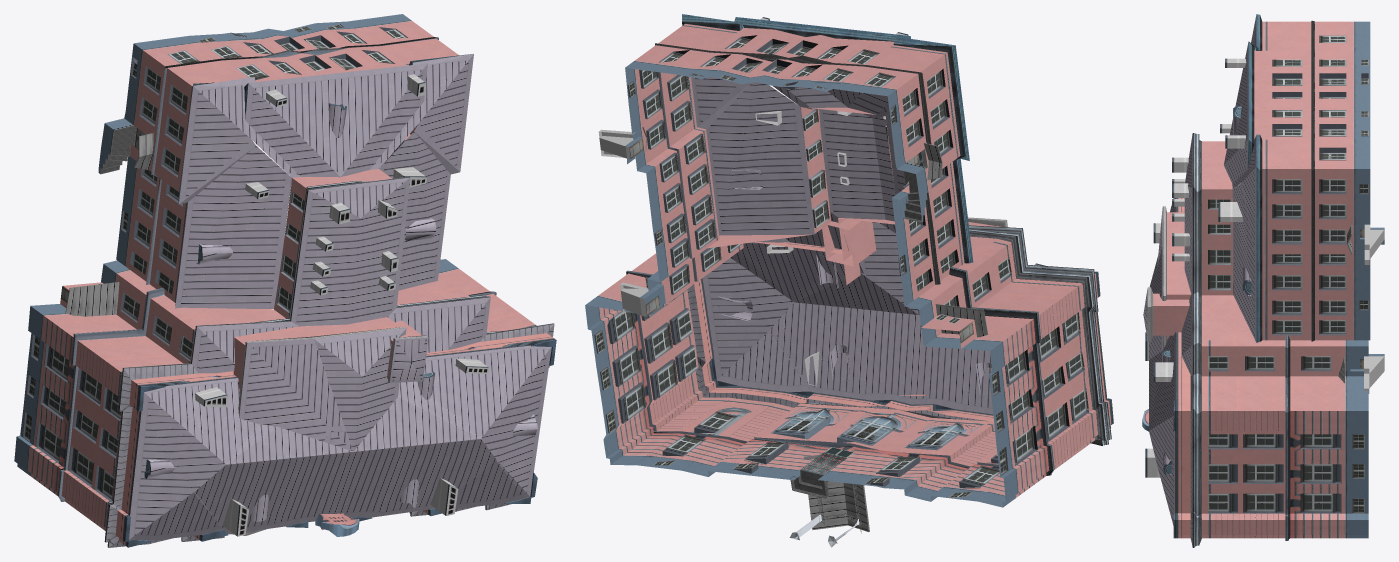
File: Estonia8-origo.obj
The picture shows the model from 3 angles, left to right: view 1: azimuth 30°, elevation 25°; view 2: azimuth 150°, elevation 25°; view 3: azimuth 270°, elevation 25°; orthographic projection. The views are drawn at different scales.
Visible parts, largest first — view 1: estonia8; view 2: estonia8; view 3: estonia8.
Boxes of the visible parts, box(x1,y1,x2,y2) form: estonia8: box(14, 14, 556, 547); estonia8: box(585, 14, 1113, 547); estonia8: box(1142, 14, 1384, 547).
Size of the model in its own units: 38.75 by 41 by 20.59.
